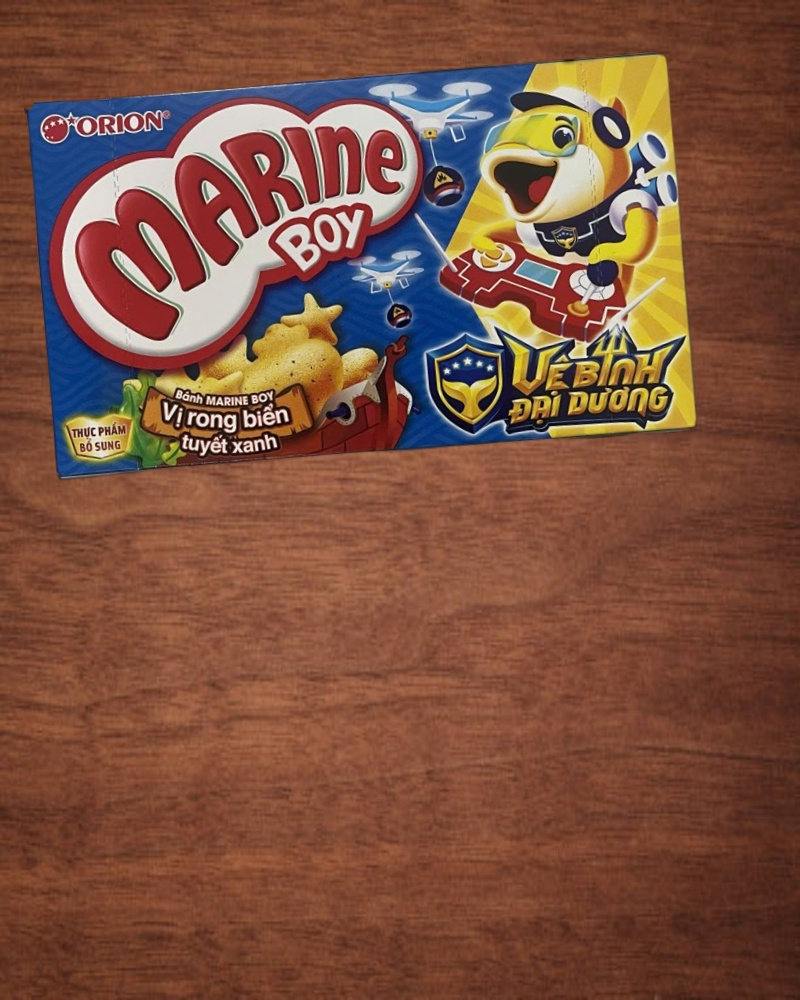Marine: (27, 48, 701, 485)
